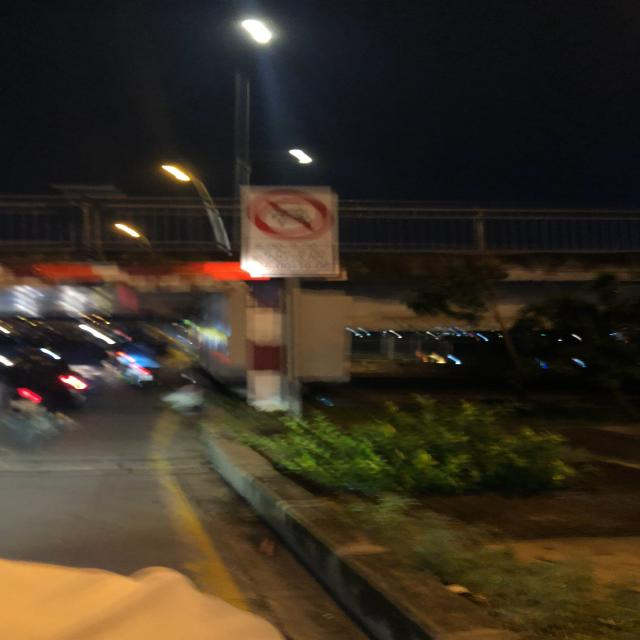Bien bao cam xe oto: (245, 183, 341, 238)
